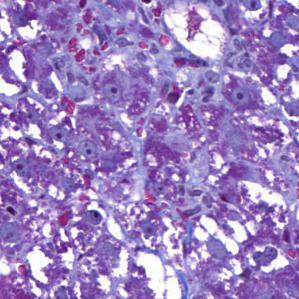ballooning: (160, 3, 231, 66)
